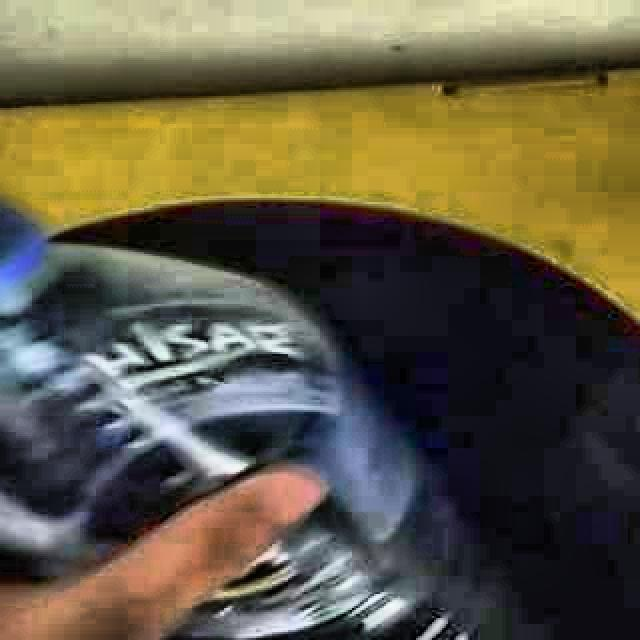plastic: (0, 204, 487, 640)
